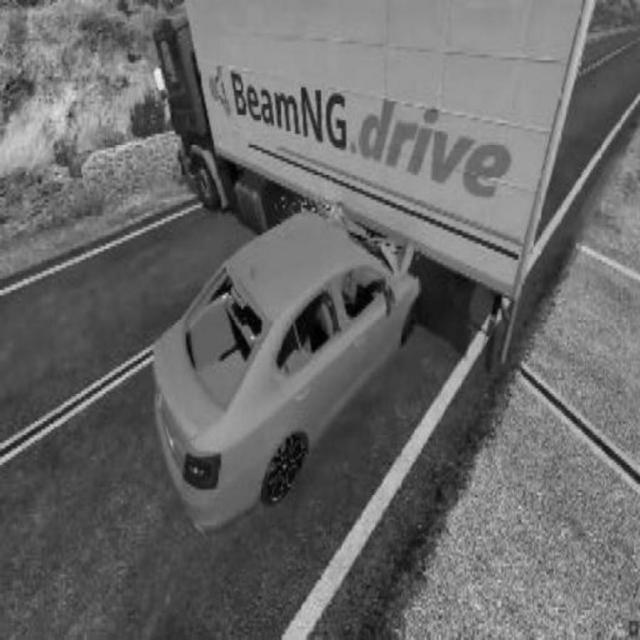accident: (145, 1, 573, 518)
